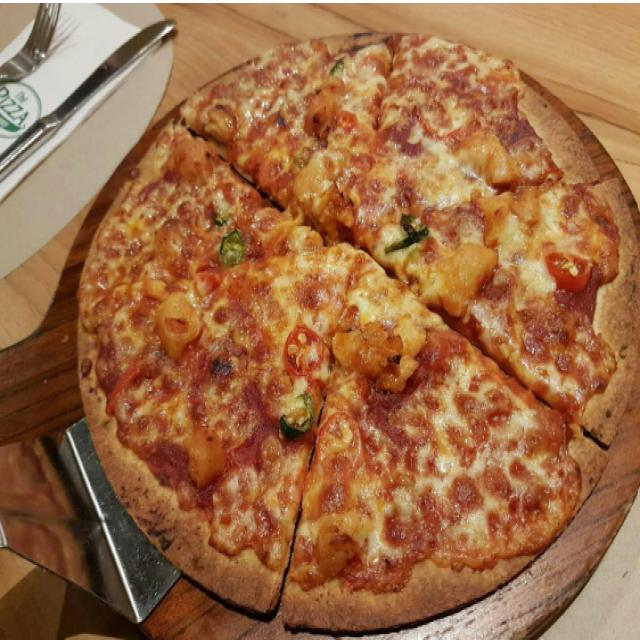BBQ Chicken pizza: (128, 198, 620, 435)
